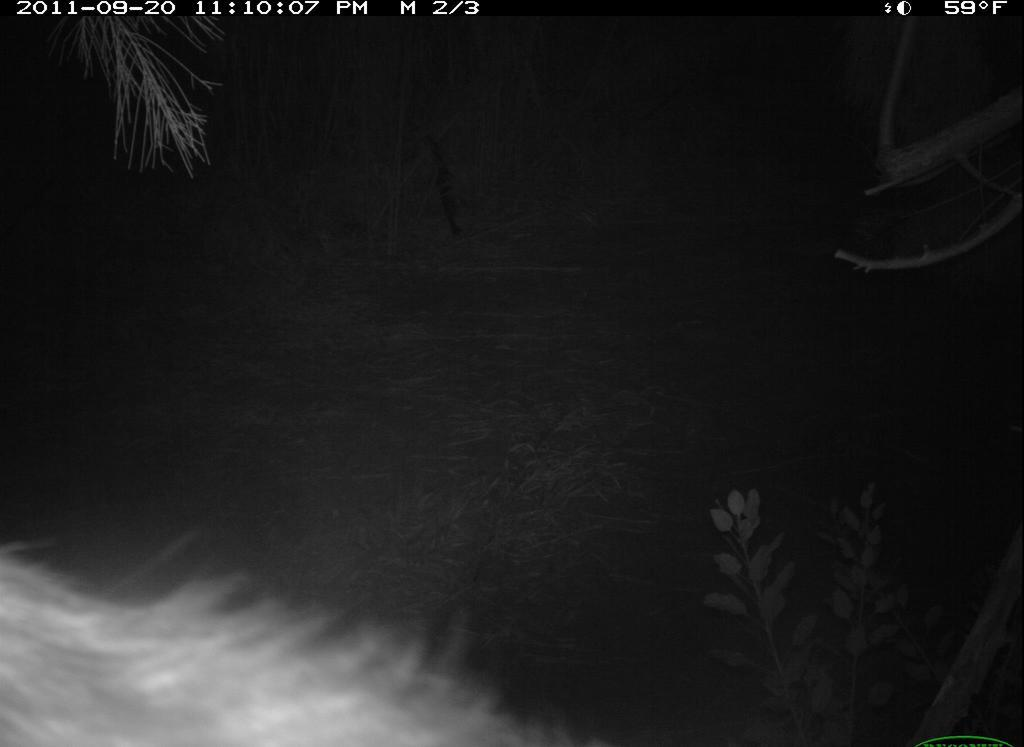raccoon: (6, 518, 644, 747)
